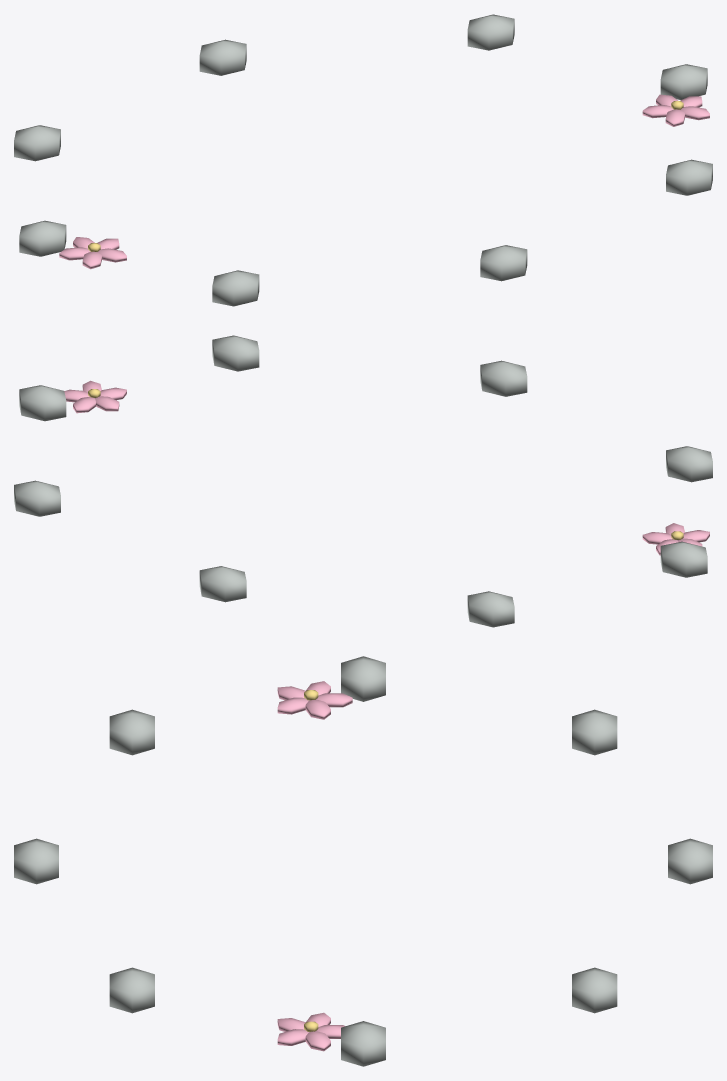
The model's file is foundation_spring_low.glb.
3 renders of one model, top to bottom at view 1: azimuth 30°, elevation 25°; view 2: azimuth 150°, elevation 25°; view 3: azimuth 270°, elevation 25°, orthographic. The views are drawn at different scales.
Bounding box in the file's own units: 3.54 × 0.16 × 2.67.
